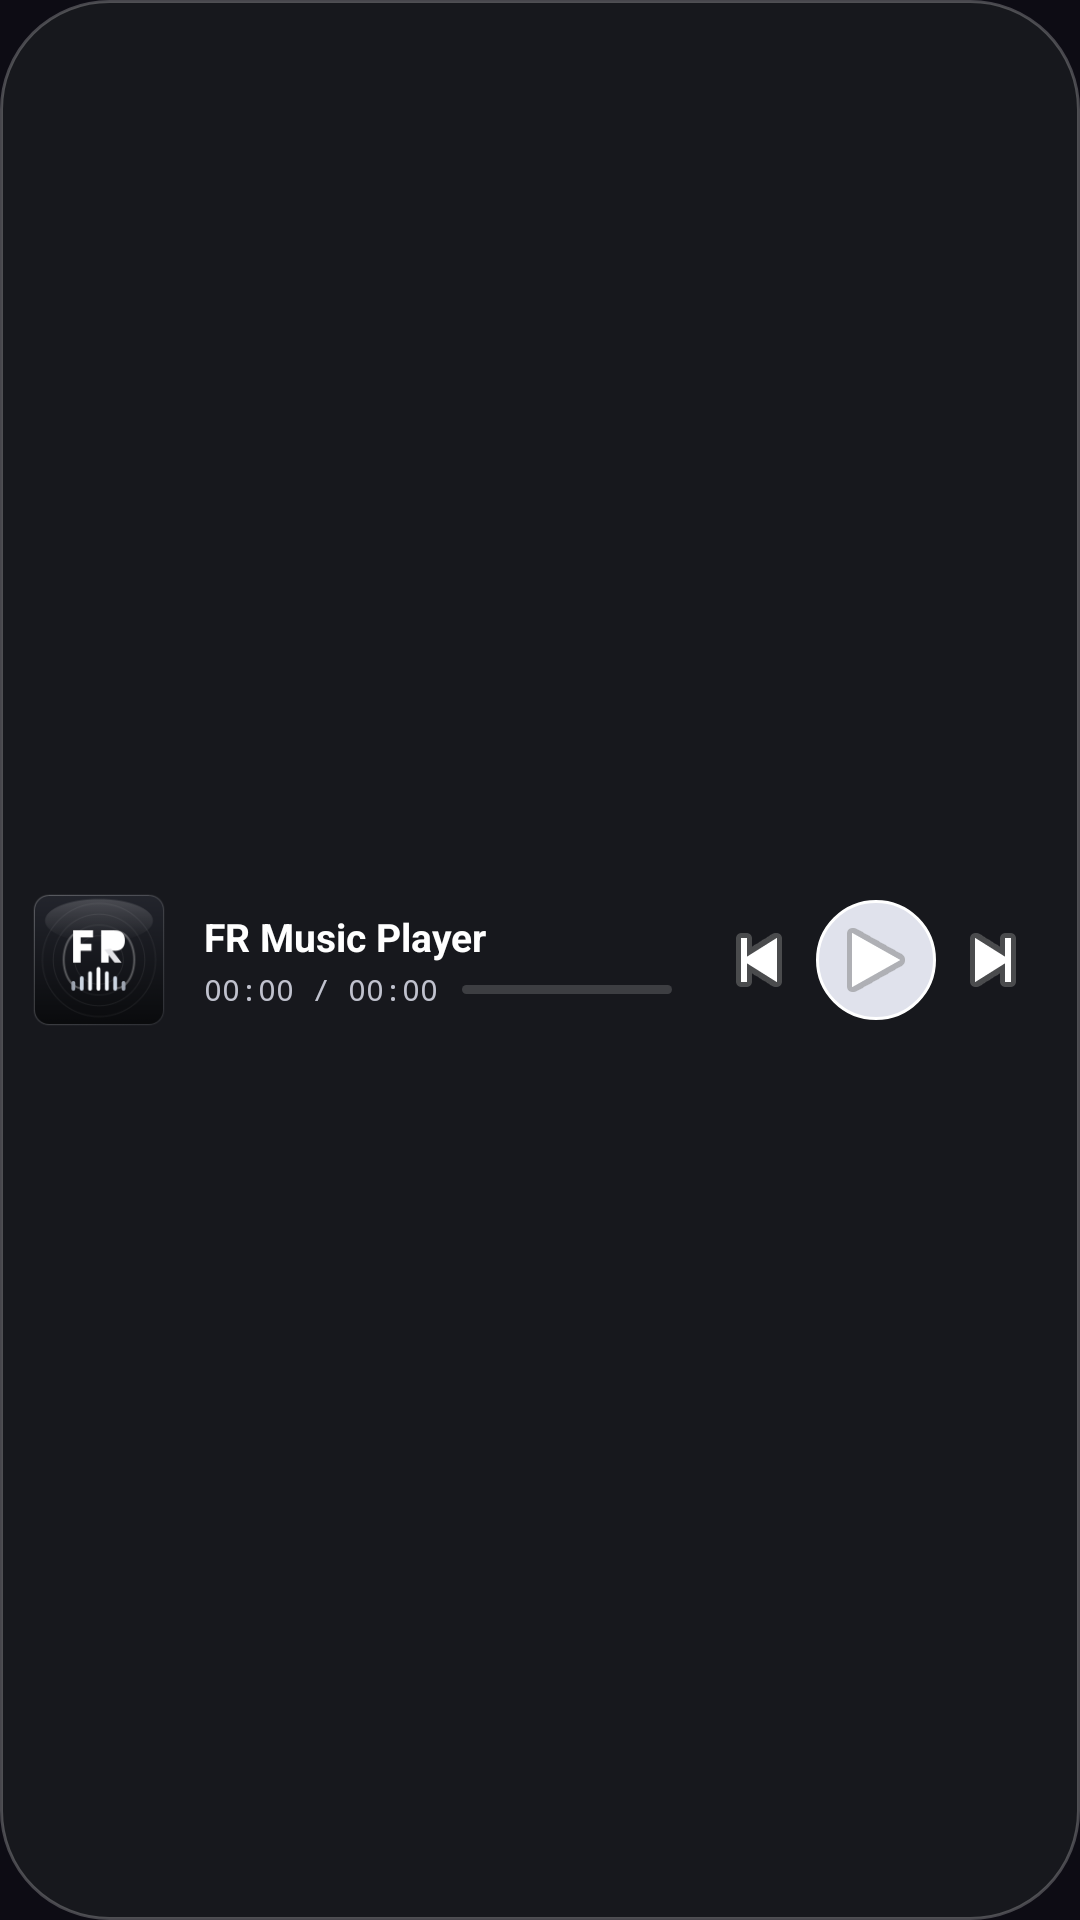

Icon bounding boxes for this 1080w x 1920h phone screenshot, format (x1, y1, x2, y2):
Next: (970, 933, 1016, 987)
Play/Pause: (816, 900, 936, 1020)
Previous: (736, 933, 782, 987)
